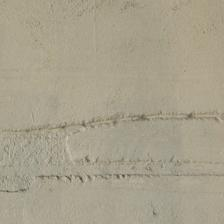Crack: (3, 155, 223, 193), (5, 107, 223, 139)
